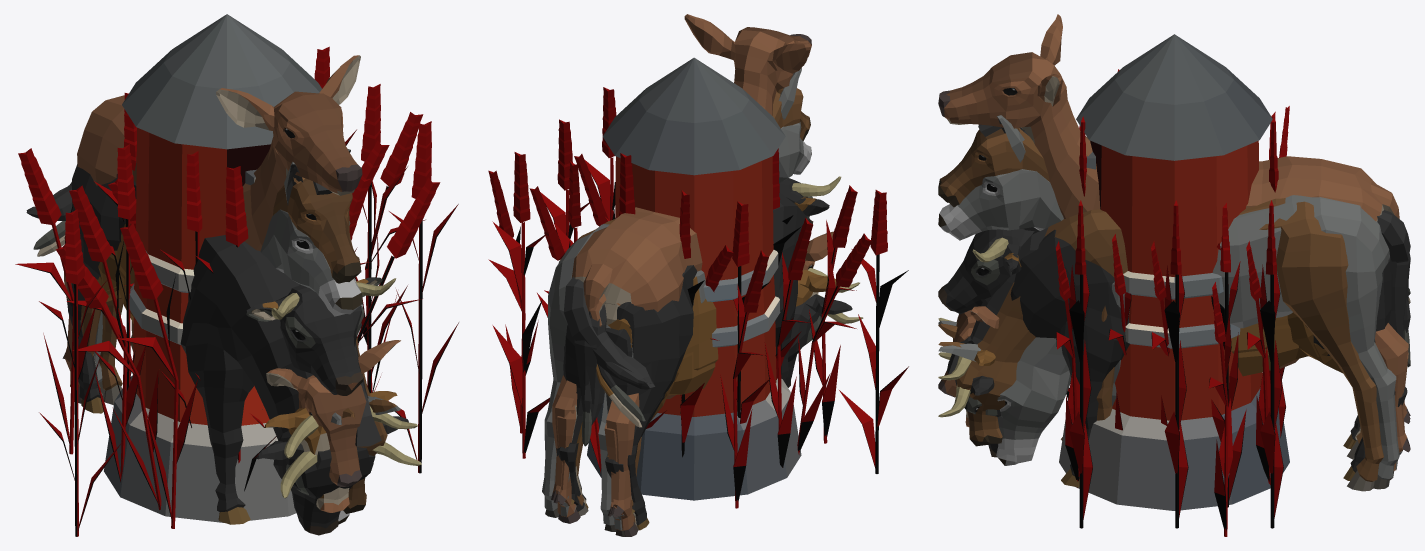
File: farm.glb
The picture shows the model from 3 angles, left to right: view 1: azimuth 30°, elevation 25°; view 2: azimuth 150°, elevation 25°; view 3: azimuth 270°, elevation 25°; orthographic projection. The views are drawn at different scales.
Visible parts, largest first — view 1: silo, wheat, bull-grazing, deer-standing, bull-standing, horse-standing, deer-grazing, donkey-standing, cow-grazing, horse-grazing, donkey-grazing, cow-standing; view 2: silo, wheat, deer-standing, bull-grazing, donkey-grazing, bull-standing, cow-grazing, deer-grazing, horse-standing, horse-grazing, donkey-standing, cow-standing; view 3: silo, wheat, horse-grazing, donkey-grazing, deer-standing, bull-grazing, donkey-standing, bull-standing, horse-standing, cow-grazing, cow-standing, deer-grazing.
Boxes of the visible parts, x1,y1,x2,y2 form: silo: (104,14,321,522); wheat: (15,46,458,536); bull-grazing: (33,164,421,535); deer-standing: (62,55,362,403); bull-standing: (246,277,396,395); horse-standing: (81,177,361,405); deer-grazing: (130,321,400,486); donkey-standing: (260,148,362,316); cow-grazing: (37,223,417,512); horse-grazing: (26,182,396,513); donkey-grazing: (31,187,400,524); cow-standing: (98,269,377,390); silo: (587,57,801,500); wheat: (488,87,908,508); deer-standing: (551,14,811,536); bull-grazing: (564,192,863,530); donkey-grazing: (542,218,651,531); bull-standing: (556,176,841,512); cow-grazing: (567,268,859,525); deer-grazing: (553,231,833,536); horse-standing: (574,88,810,529); horse-grazing: (559,219,655,389); donkey-standing: (559,68,811,536); cow-standing: (576,197,816,443); silo: (1059,34,1289,510); wheat: (1055,69,1289,536); horse-grazing: (938,198,1410,491); donkey-grazing: (938,195,1410,489); deer-standing: (938,14,1410,479); bull-grazing: (938,227,1410,487); donkey-standing: (938,115,1410,477); bull-standing: (938,228,1410,406); horse-standing: (938,124,1410,431); cow-grazing: (938,297,1410,449); cow-standing: (1004,253,1342,376); deer-grazing: (938,306,1410,478).
Size of the model in its own units: 1 by 1 by 1.
